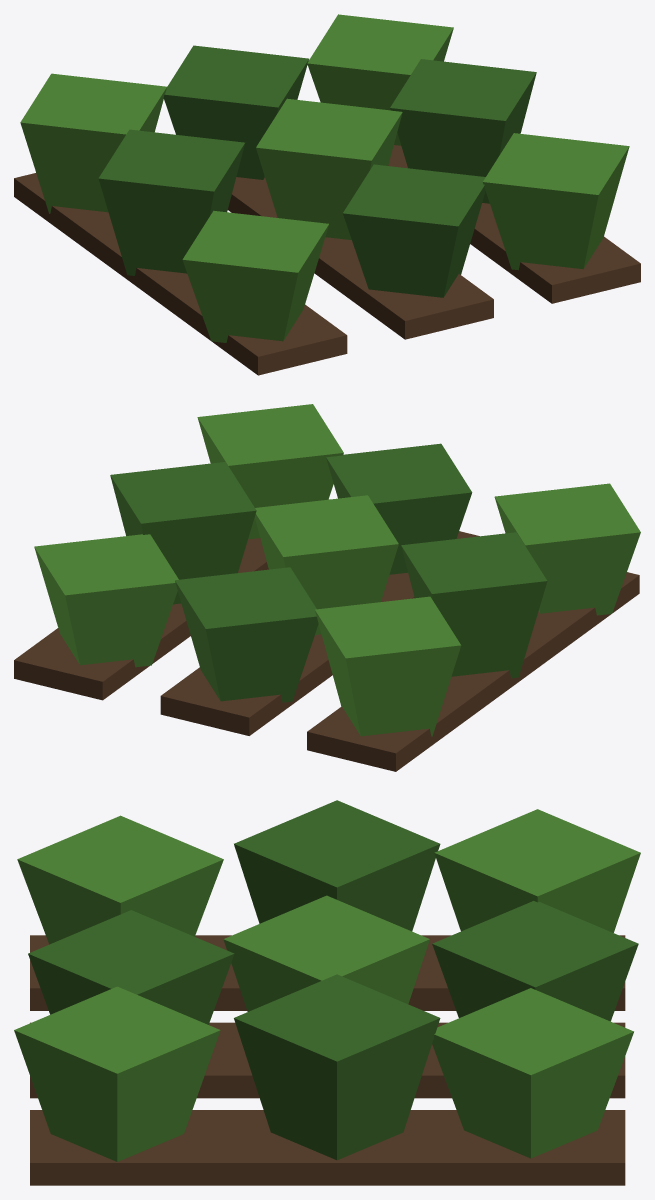
File: crop_barley_2.glb
The picture shows the model from 3 angles, top to bottom: view 1: azimuth 30°, elevation 25°; view 2: azimuth 150°, elevation 25°; view 3: azimuth 270°, elevation 25°; orthographic projection. The views are drawn at different scales.
Parts seen in each view (by area): view 1: crop_barley_2; view 2: crop_barley_2; view 3: crop_barley_2.
Boxes of the visible parts, bbox=[...] form: crop_barley_2: bbox=[14, 14, 640, 375]; crop_barley_2: bbox=[14, 404, 640, 771]; crop_barley_2: bbox=[14, 800, 640, 1185].
Bounding box in the file's own units: 2 × 0.4856 × 2.
